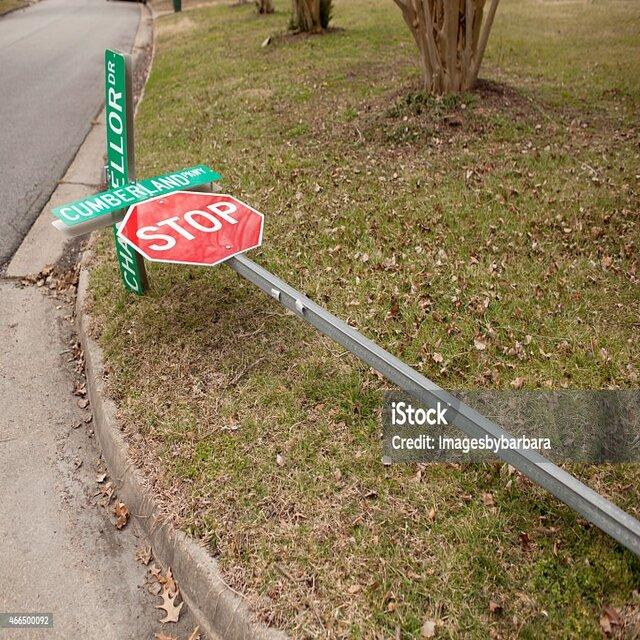Inclined Pole: (53, 46, 640, 601)
